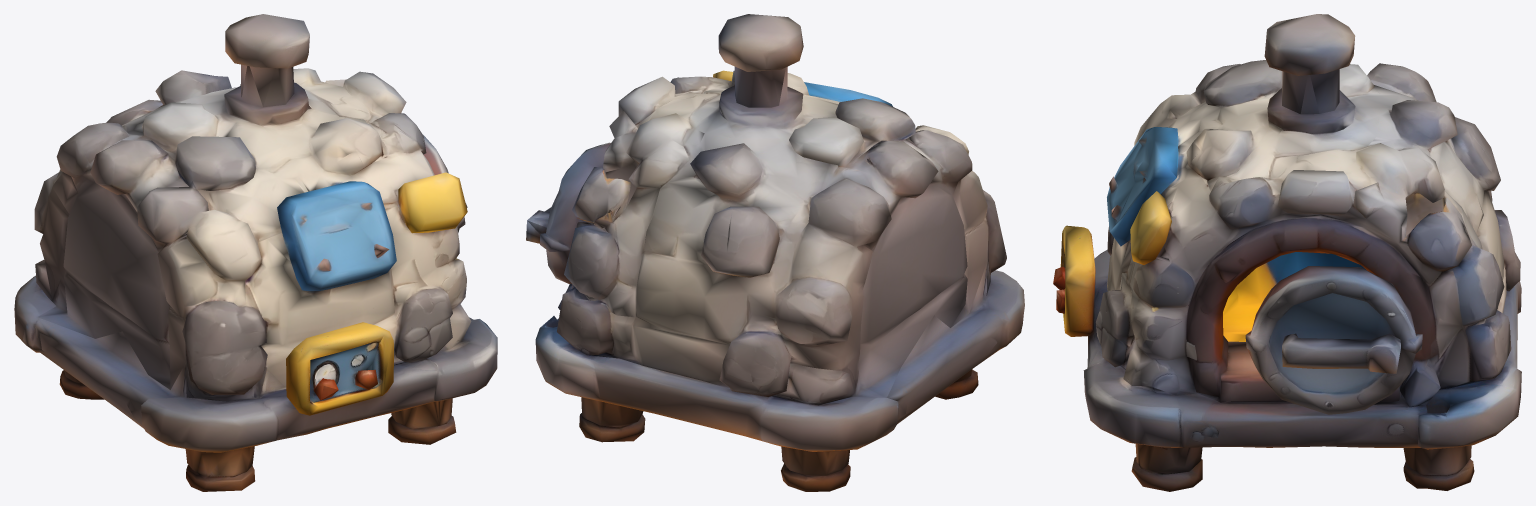
File: tas_firin.glb
The picture shows the model from 3 angles, left to right: view 1: azimuth 30°, elevation 25°; view 2: azimuth 150°, elevation 25°; view 3: azimuth 270°, elevation 25°; orthographic projection. The views are drawn at different scales.
Parts seen in each view (by area): view 1: body, base, part_4, door_handle, door; view 2: body, base, door_handle, door, part_5; view 3: body, base, door, door_handle, part_4, part_5.
Part boxes in pixels (x1,y1,x2,y2): body: (34, 66, 471, 401); base: (14, 275, 497, 491); part_4: (286, 322, 393, 415); door_handle: (225, 14, 309, 107); door: (423, 135, 465, 232); body: (557, 67, 1006, 405); base: (535, 262, 1024, 491); door_handle: (718, 14, 803, 107); door: (540, 142, 610, 283); part_5: (526, 207, 550, 243); body: (1096, 60, 1520, 407); base: (1083, 249, 1521, 491); door: (1245, 266, 1422, 414); door_handle: (1264, 14, 1355, 114); part_4: (1053, 225, 1095, 336); part_5: (1282, 333, 1400, 373).
Bounding box in the file's own units: 1.48 × 1.4 × 1.47.
6 materials, 6 textured.
